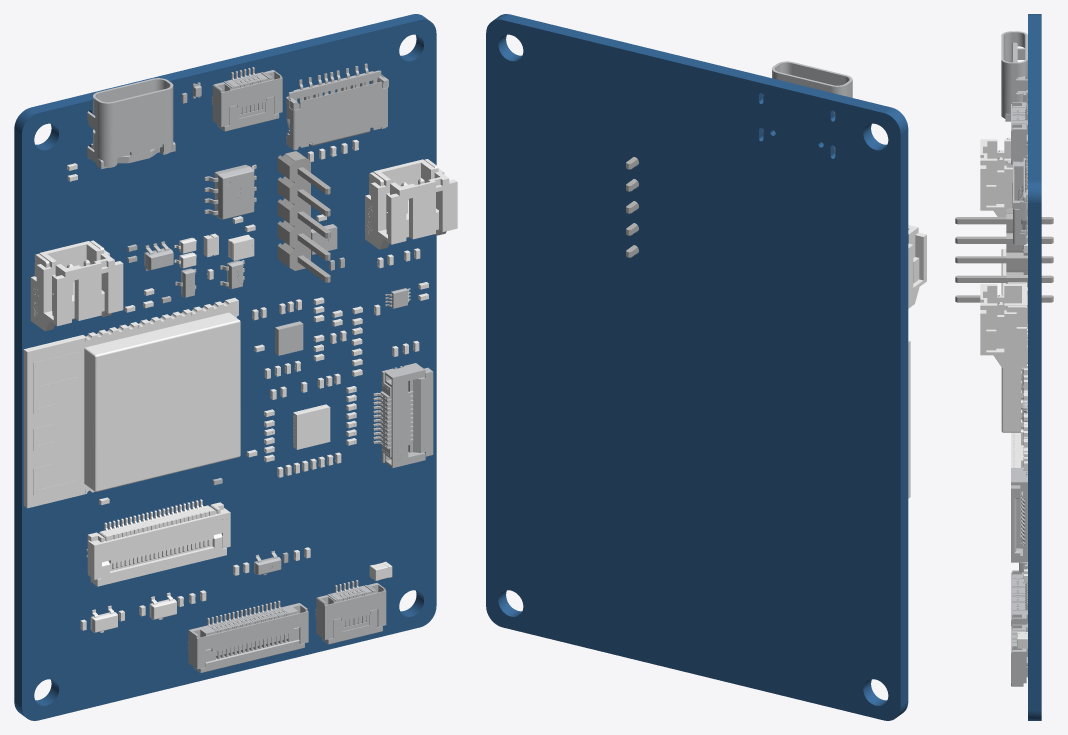
The model's file is bigsmart-mainboard.glb.
3 views of the same model, side by side, from view 1: azimuth 30°, elevation 25°; view 2: azimuth 150°, elevation 25°; view 3: azimuth 270°, elevation 25° (orthographic). The views are drawn at different scales.
Visible parts, largest first — view 1: Board~whWx, U1, FPC2, U4, U2, USB1:mesh-253, H1, U6:mesh-371, FPC3:mesh-359, FPC1:mesh-390, FPC4:mesh-136, FPC5:mesh-146 (+8 smaller); view 2: Board~whWx, USB1:mesh-253, U4; view 3: Board~whWx, U2, H1, U4, USB1:mesh-253, U1, FPC5:mesh-146, FPC1:mesh-390, FPC4:mesh-136, FPC1:mesh-389, FPC3:mesh-359, U6:mesh-366 (+4 smaller).
Part boxes in pixels (x1=…): Board~whWx: x1=14, y1=14, x2=436, y2=720; U1: x1=23, y1=298, x2=240, y2=508; FPC2: x1=86, y1=499, x2=230, y2=586; U4: x1=30, y1=240, x2=123, y2=331; U2: x1=365, y1=159, x2=457, y2=249; USB1:mesh-253: x1=87, y1=78, x2=173, y2=166; H1: x1=277, y1=151, x2=330, y2=282; U6:mesh-371: x1=286, y1=74, x2=387, y2=149; FPC3:mesh-359: x1=188, y1=603, x2=308, y2=669; FPC1:mesh-390: x1=380, y1=363, x2=425, y2=467; FPC4:mesh-136: x1=316, y1=583, x2=386, y2=639; FPC5:mesh-146: x1=212, y1=70, x2=282, y2=126; Board~whWx: x1=486, y1=14, x2=908, y2=720; USB1:mesh-253: x1=763, y1=61, x2=852, y2=153; U4: x1=908, y1=225, x2=926, y2=308; Board~whWx: x1=1028, y1=14, x2=1041, y2=720; U2: x1=980, y1=282, x2=1027, y2=367; H1: x1=955, y1=208, x2=1053, y2=302; U4: x1=980, y1=137, x2=1012, y2=216; USB1:mesh-253: x1=1001, y1=31, x2=1027, y2=118; U1: x1=1001, y1=249, x2=1027, y2=445; FPC5:mesh-146: x1=1011, y1=102, x2=1027, y2=160; FPC1:mesh-390: x1=1011, y1=468, x2=1027, y2=562; FPC4:mesh-136: x1=1011, y1=624, x2=1027, y2=683; FPC1:mesh-389: x1=1011, y1=485, x2=1020, y2=562; FPC3:mesh-359: x1=1011, y1=570, x2=1027, y2=626; U6:mesh-366: x1=1013, y1=158, x2=1027, y2=244.
Size of the model in its own units: 0.05 by 0.0707 by 0.0115.
